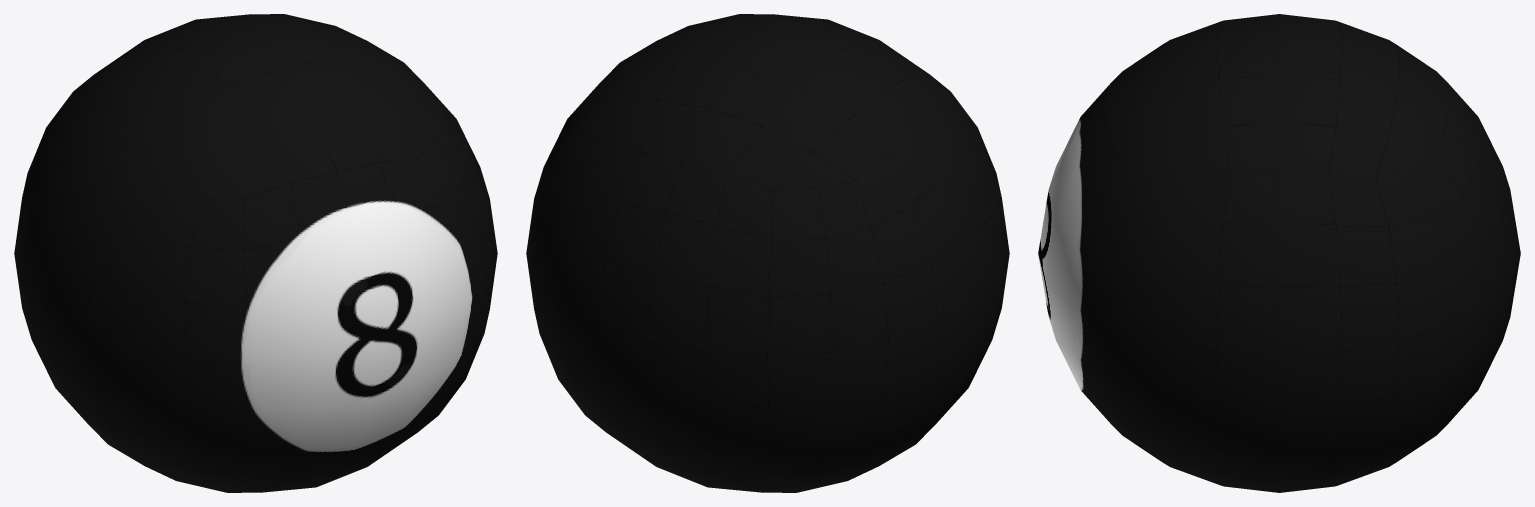
Rendered from 8Ball (1).fbx.
3 renders of one model, left to right at view 1: azimuth 30°, elevation 25°; view 2: azimuth 150°, elevation 25°; view 3: azimuth 270°, elevation 25°, orthographic.
Visible parts, largest first — view 1: 8BALL; view 2: 8BALL; view 3: 8BALL.
Boxes of the visible parts, x1,y1,x2,y2 form: 8BALL: [14, 14, 497, 492]; 8BALL: [526, 14, 1009, 492]; 8BALL: [1038, 14, 1520, 492].
Size of the model in its own units: 41.51 by 41.51 by 41.51.
Materials: 1 (1 with a texture image).
